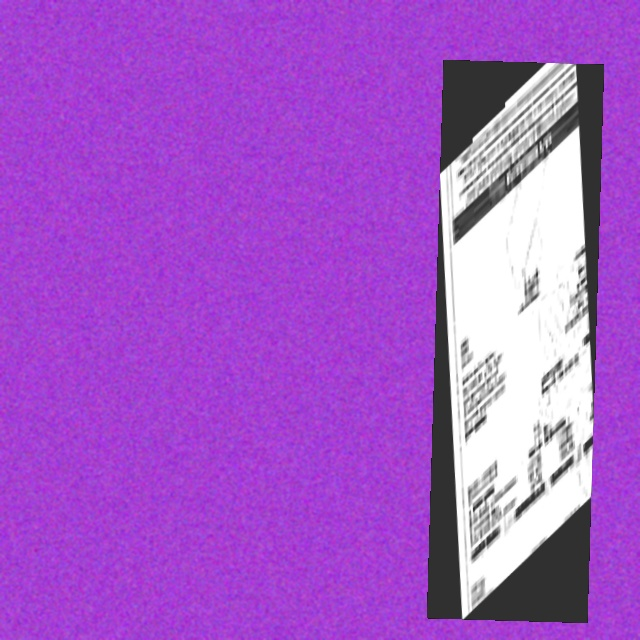electricity-bill: (427, 60, 604, 623)
